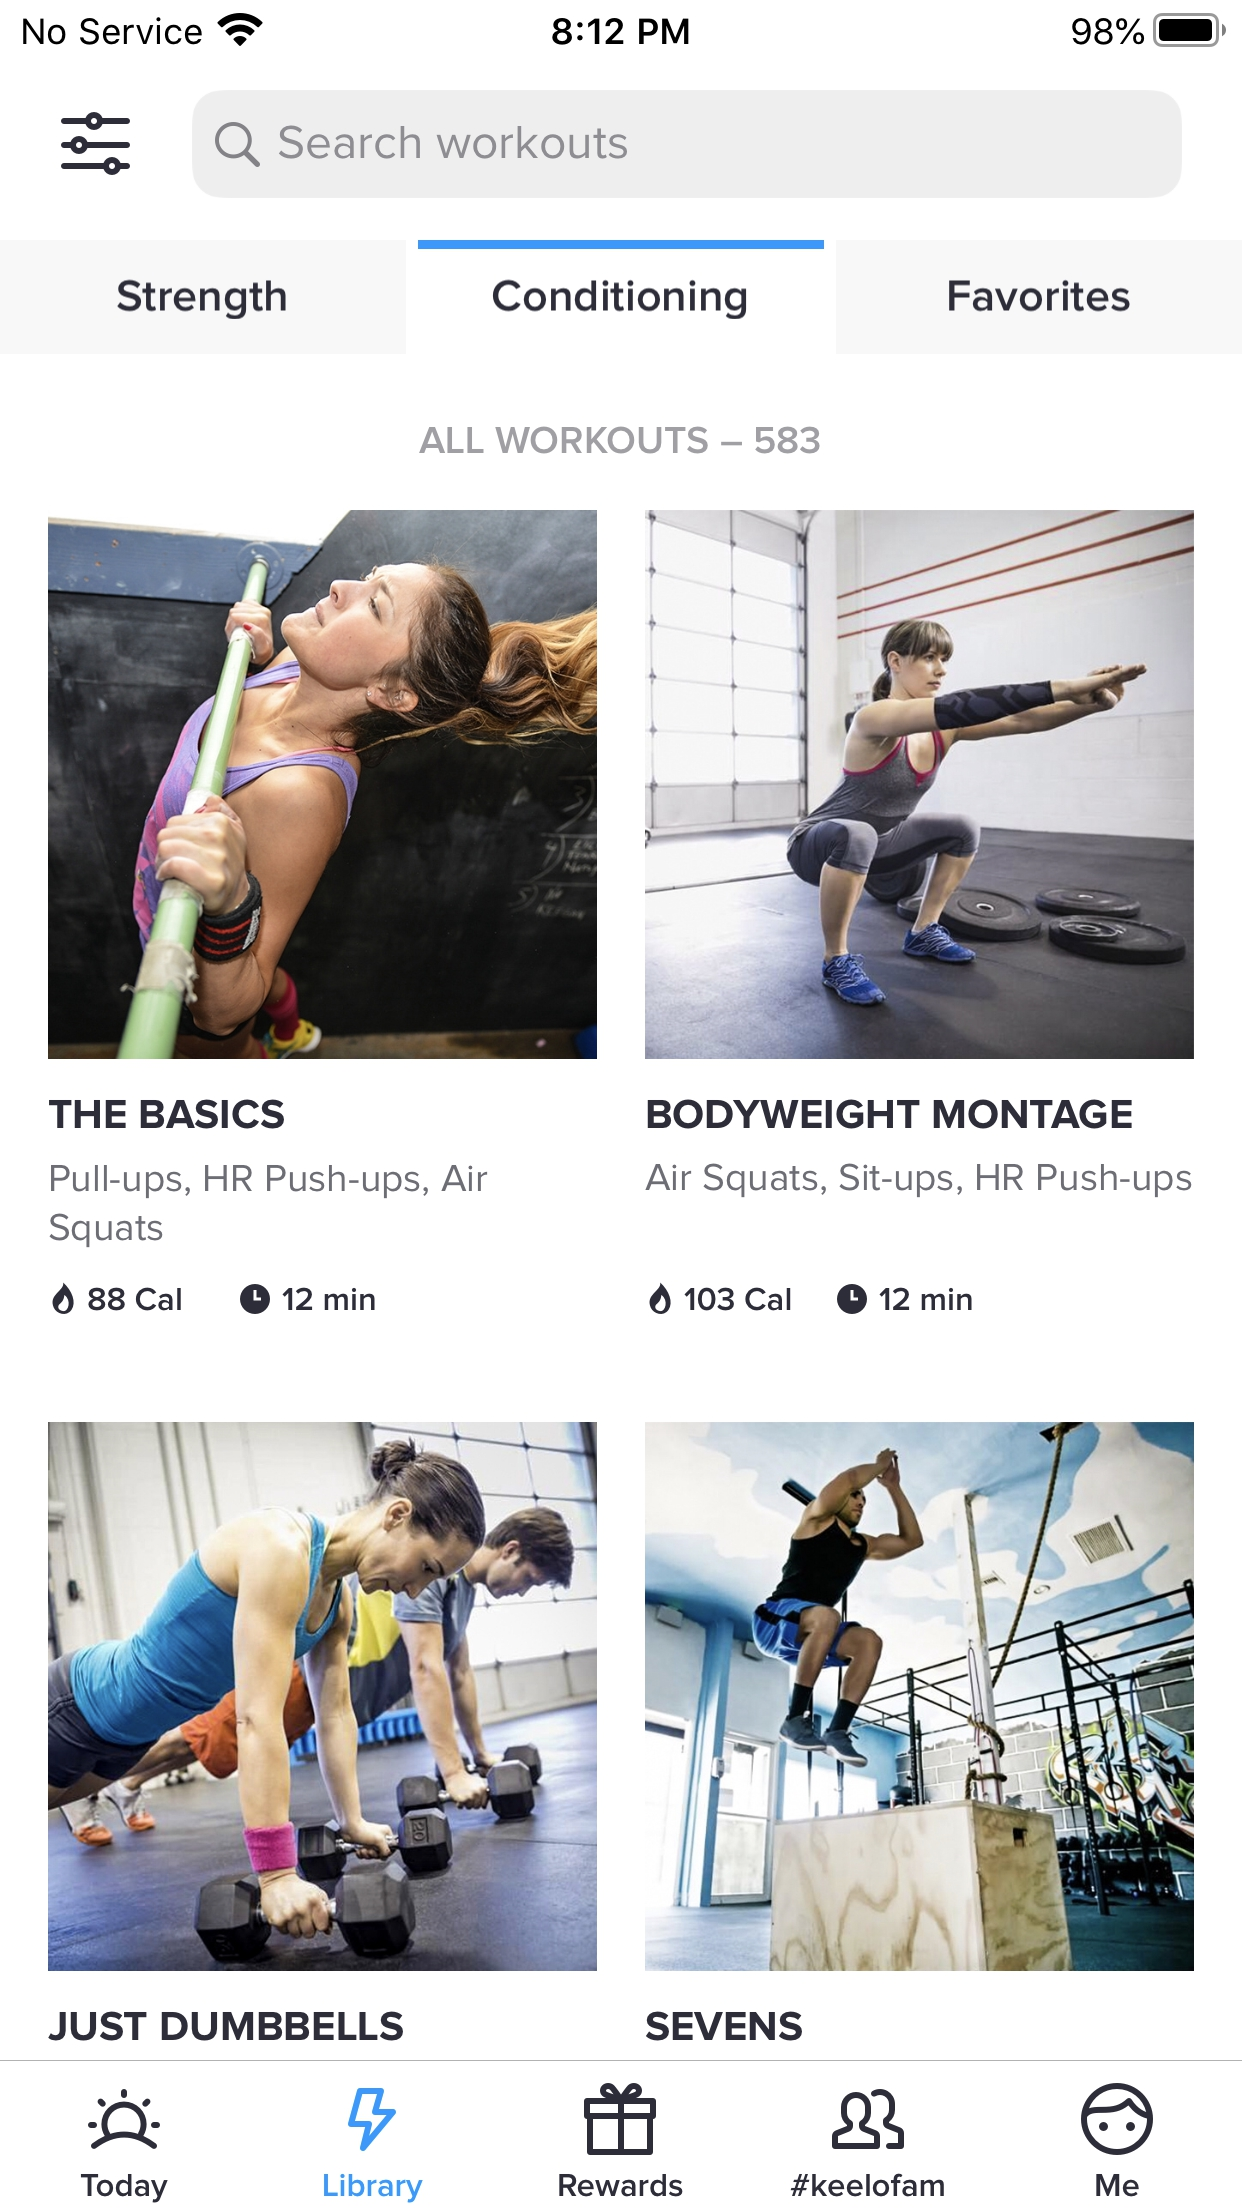EditText: (193, 91, 1181, 199)
Icon: (584, 2084, 657, 2155), (1081, 2084, 1153, 2155), (62, 114, 130, 176), (833, 2090, 904, 2149), (215, 123, 261, 168), (241, 1284, 271, 1315), (837, 1284, 867, 1313), (649, 1281, 672, 1315), (53, 1281, 74, 1315)
Image: (49, 511, 597, 1060), (645, 511, 1193, 1060), (645, 1422, 1193, 1971), (49, 1422, 597, 1971), (89, 2090, 161, 2149), (349, 2088, 397, 2150)
Text: (645, 1163, 1192, 1198), (52, 1165, 488, 1200), (648, 1099, 1131, 1130), (281, 127, 628, 161), (419, 428, 820, 455), (49, 2011, 403, 2041), (493, 281, 748, 320), (50, 1099, 285, 1130), (118, 281, 287, 320), (949, 281, 1130, 312), (646, 2011, 802, 2041), (50, 1213, 164, 1248), (792, 2173, 943, 2196), (325, 2175, 425, 2203), (560, 2175, 684, 2197), (684, 1287, 792, 1312), (82, 2175, 168, 2203), (89, 1287, 182, 1310), (284, 1287, 376, 1310), (880, 1287, 972, 1310), (1096, 2175, 1139, 2197)
UpperTaskBar: (2, 2, 1242, 49)
